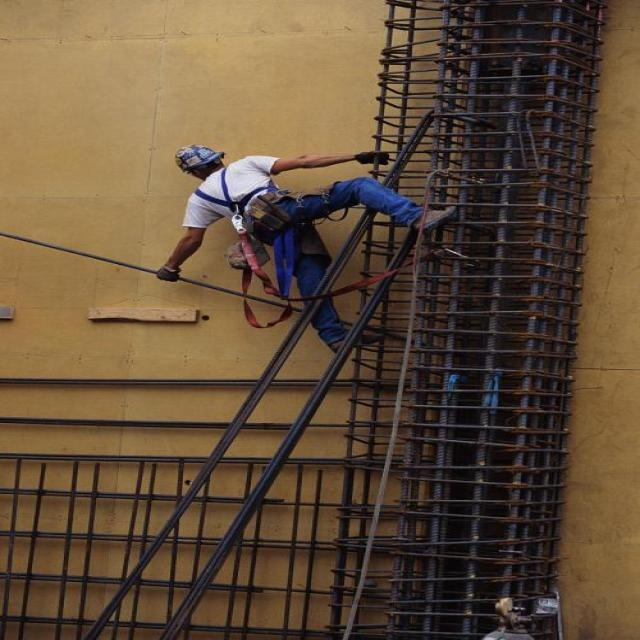Arnes_seguridad: (186, 159, 282, 221)
